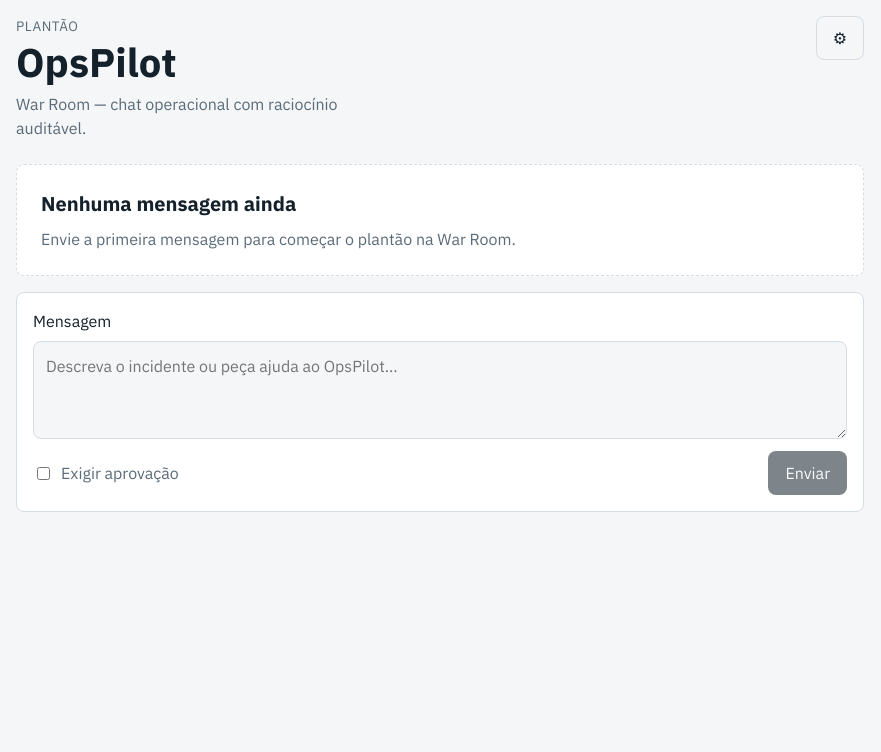
Scenario: App › shows inline error with retry when postChat fails
Type "oi" into the text box labelled "Mensagem" at (440, 390), box 33,341 -> 847,439
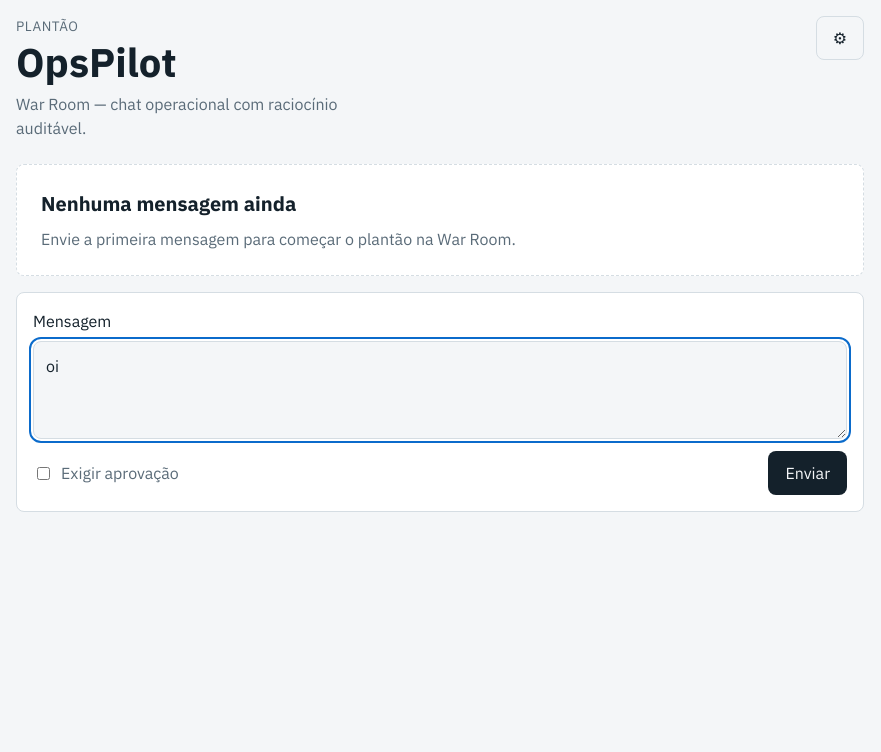
Click the button "Enviar" at (808, 473), box 768,451 -> 847,495
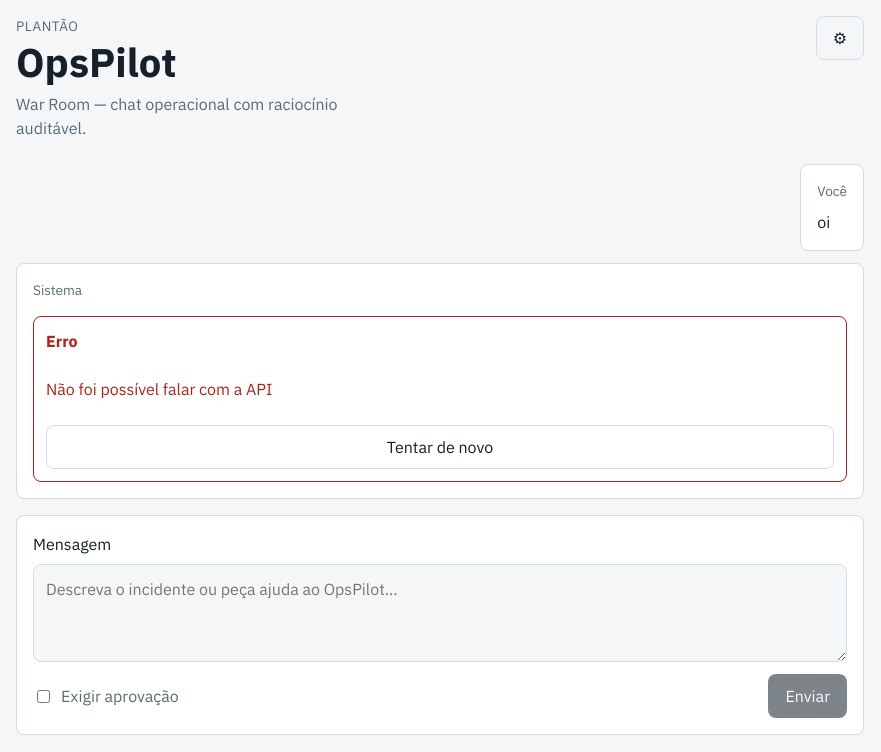
Expected: the text "Não foi possível falar com a API" is shown, 46,379 -> 272,399
Expected: the button "Tentar de novo" is shown, 46,425 -> 834,469
